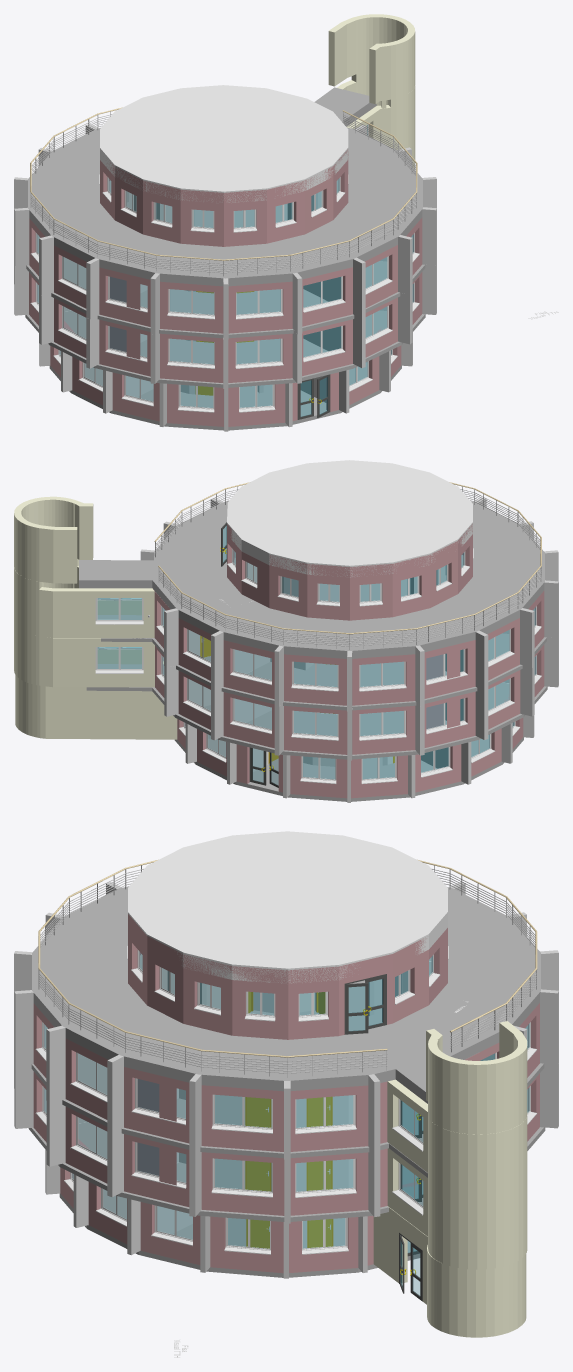
File: tour-de-torcy.glb
3 views of the same model, one above another, from view 1: azimuth 30°, elevation 25°; view 2: azimuth 150°, elevation 25°; view 3: azimuth 270°, elevation 25° (orthographic). The views are drawn at different scales.
Parts seen in each view (by area): view 1: 2nM4_d6VD41PkO3tbikxlN, 1vs4LqMBj1RRCVRaJLRBcU, 36_6a_sobBIQguS6wnwfwo, 2nM4_d6VD41PkO3tbikxex, 0LWbfMwBrAZQdBPOH7OvSl, 2mk1877xfDEQAqCg9wjNrW, 0GMSE4HnrDjhjm5RIcImQW, 2nM4_d6VD41PkO3tbikxhn, 1LHWri$JD5i9S0XaYlLi_T, 2nM4_d6VD41PkO3tbikxh$, 0GMSE4HnrDjhjm5RIcImP3, 1LHWri$JD5i9S0XaYlLizy (+61 smaller); view 2: 2nM4_d6VD41PkO3tbikxlN, 1vs4LqMBj1RRCVRaJLRBcU, 1gsGP6iGX8LQS$EJ57d9jr, 36_6a_sobBIQguS6wnwfwo, 0LWbfMwBrAZQdBPOH7OvSl, 2nM4_d6VD41PkO3tbikxex, 2nM4_d6VD41PkO3tbikxeL, 1LHWri$JD5i9S0XaYlLlN1, 2mk1877xfDEQAqCg9wjNrW, 0GMSE4HnrDjhjm5RIcImI1, 2nM4_d6VD41PkO3tbikxhw, 1LHWri$JD5i9S0XaYlLisR (+75 smaller); view 3: 2nM4_d6VD41PkO3tbikxlN, 1vs4LqMBj1RRCVRaJLRBcU, 36_6a_sobBIQguS6wnwfwo, 2nM4_d6VD41PkO3tbikxex, 0LWbfMwBrAZQdBPOH7OvSl, 2nM4_d6VD41PkO3tbikxhq, 1LHWri$JD5i9S0XaYlLl10, 0GMSE4HnrDjhjm5RIcIm1S, 2nM4_d6VD41PkO3tbikxhr, 1LHWri$JD5i9S0XaYlLl7v, 3IahPAUWT5YRyCWsksV74d, 2nM4_d6VD41PkO3tbikxht (+80 smaller).
Part boxes in pixels (x1,y1,x2,y2): 2nM4_d6VD41PkO3tbikxlN: [28, 87, 422, 286]; 1vs4LqMBj1RRCVRaJLRBcU: [100, 85, 348, 202]; 36_6a_sobBIQguS6wnwfwo: [30, 107, 417, 276]; 2nM4_d6VD41PkO3tbikxex: [26, 261, 425, 338]; 0LWbfMwBrAZQdBPOH7OvSl: [25, 310, 425, 387]; 2mk1877xfDEQAqCg9wjNrW: [49, 362, 401, 430]; 0GMSE4HnrDjhjm5RIcImQW: [164, 185, 223, 246]; 2nM4_d6VD41PkO3tbikxhn: [206, 281, 292, 333]; 1LHWri$JD5i9S0XaYlLi_T: [206, 333, 292, 382]; 2nM4_d6VD41PkO3tbikxh$: [84, 260, 140, 324]; 0GMSE4HnrDjhjm5RIcImP3: [224, 189, 266, 246]; 1LHWri$JD5i9S0XaYlLizy: [84, 313, 140, 373]; 2nM4_d6VD41PkO3tbikxlN: [79, 501, 544, 658]; 1vs4LqMBj1RRCVRaJLRBcU: [227, 460, 472, 577]; 1gsGP6iGX8LQS$EJ57d9jr: [45, 686, 177, 739]; 36_6a_sobBIQguS6wnwfwo: [154, 482, 541, 649]; 0LWbfMwBrAZQdBPOH7OvSl: [86, 657, 547, 759]; 2nM4_d6VD41PkO3tbikxex: [97, 583, 546, 710]; 2nM4_d6VD41PkO3tbikxeL: [53, 588, 154, 637]; 1LHWri$JD5i9S0XaYlLlN1: [53, 638, 154, 687]; 2mk1877xfDEQAqCg9wjNrW: [174, 734, 523, 801]; 0GMSE4HnrDjhjm5RIcImI1: [331, 564, 392, 620]; 2nM4_d6VD41PkO3tbikxhw: [398, 643, 465, 702]; 1LHWri$JD5i9S0XaYlLisR: [398, 695, 465, 751]; 2nM4_d6VD41PkO3tbikxlN: [32, 886, 540, 1103]; 1vs4LqMBj1RRCVRaJLRBcU: [128, 831, 447, 983]; 36_6a_sobBIQguS6wnwfwo: [38, 859, 537, 1077]; 2nM4_d6VD41PkO3tbikxex: [31, 1058, 544, 1177]; 0LWbfMwBrAZQdBPOH7OvSl: [28, 1122, 545, 1221]; 2nM4_d6VD41PkO3tbikxhq: [176, 1080, 283, 1151]; 1LHWri$JD5i9S0XaYlLl10: [176, 1147, 284, 1215]; 0GMSE4HnrDjhjm5RIcIm1S: [232, 966, 288, 1039]; 2nM4_d6VD41PkO3tbikxhr: [104, 1058, 176, 1140]; 1LHWri$JD5i9S0XaYlLl7v: [104, 1126, 176, 1203]; 3IahPAUWT5YRyCWsksV74d: [262, 1217, 358, 1273]; 2nM4_d6VD41PkO3tbikxht: [290, 1085, 368, 1151].
Bounding box in the file's own units: 27.62 × 12.04 × 21.28.
